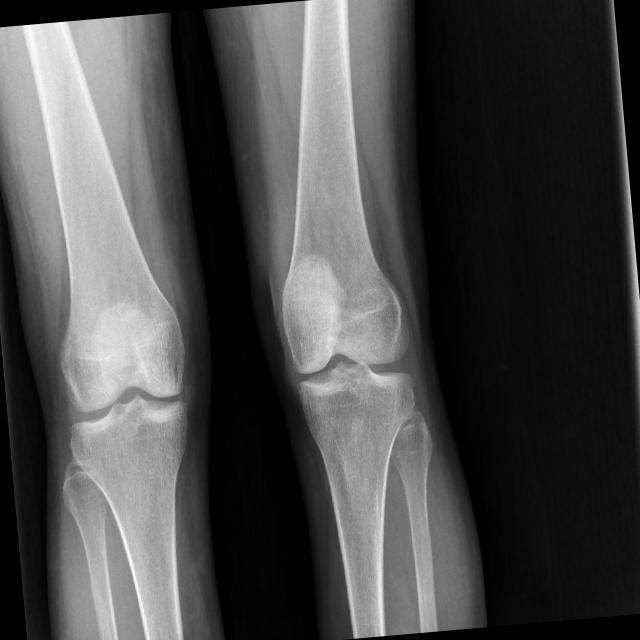Knee: (59, 324, 200, 466), (283, 294, 420, 430)
